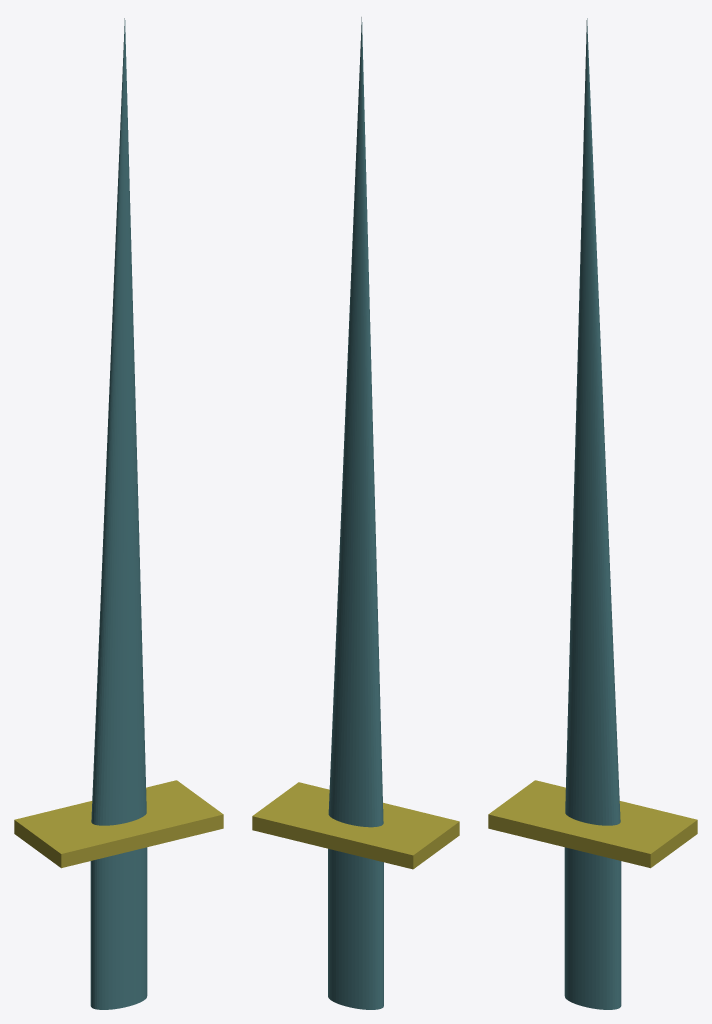
The model's file is blackblade.glb.
3 views of the same model, side by side, from view 1: azimuth 30°, elevation 25°; view 2: azimuth 150°, elevation 25°; view 3: azimuth 330°, elevation 25° (orthographic).
Visible parts, largest first — view 1: Mesh_Mesh_head_geo.001_lambert2SG.001; view 2: Mesh_Mesh_head_geo.001_lambert2SG.001; view 3: Mesh_Mesh_head_geo.001_lambert2SG.001.
Part boxes in pixels (x1=…): Mesh_Mesh_head_geo.001_lambert2SG.001: x1=14, y1=18, x2=223, y2=1009; Mesh_Mesh_head_geo.001_lambert2SG.001: x1=252, y1=17, x2=459, y2=1009; Mesh_Mesh_head_geo.001_lambert2SG.001: x1=488, y1=18, x2=697, y2=1009.
Size of the model in its own units: 6 by 35 by 3.
